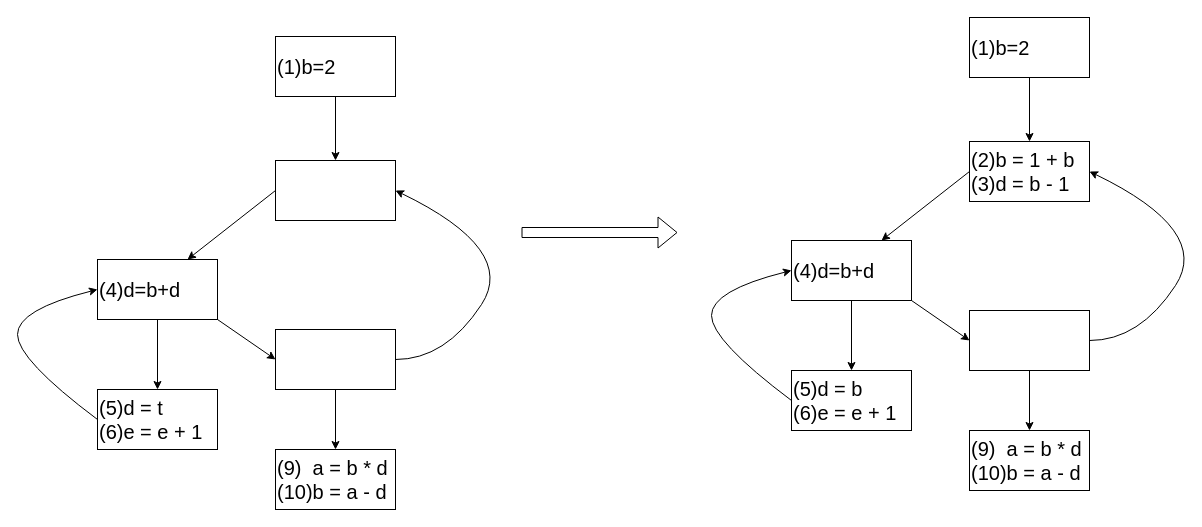
This 1202x527 diagram has some shape labels left out. The centre of each missing label's shape, as x and y in pixels:
(2)t = 1 + b (3)d = t - 1: pixel 335 190
(7)b = t (8)e = t-1: pixel 335 359
(7)e = b-1: pixel 1029 340
